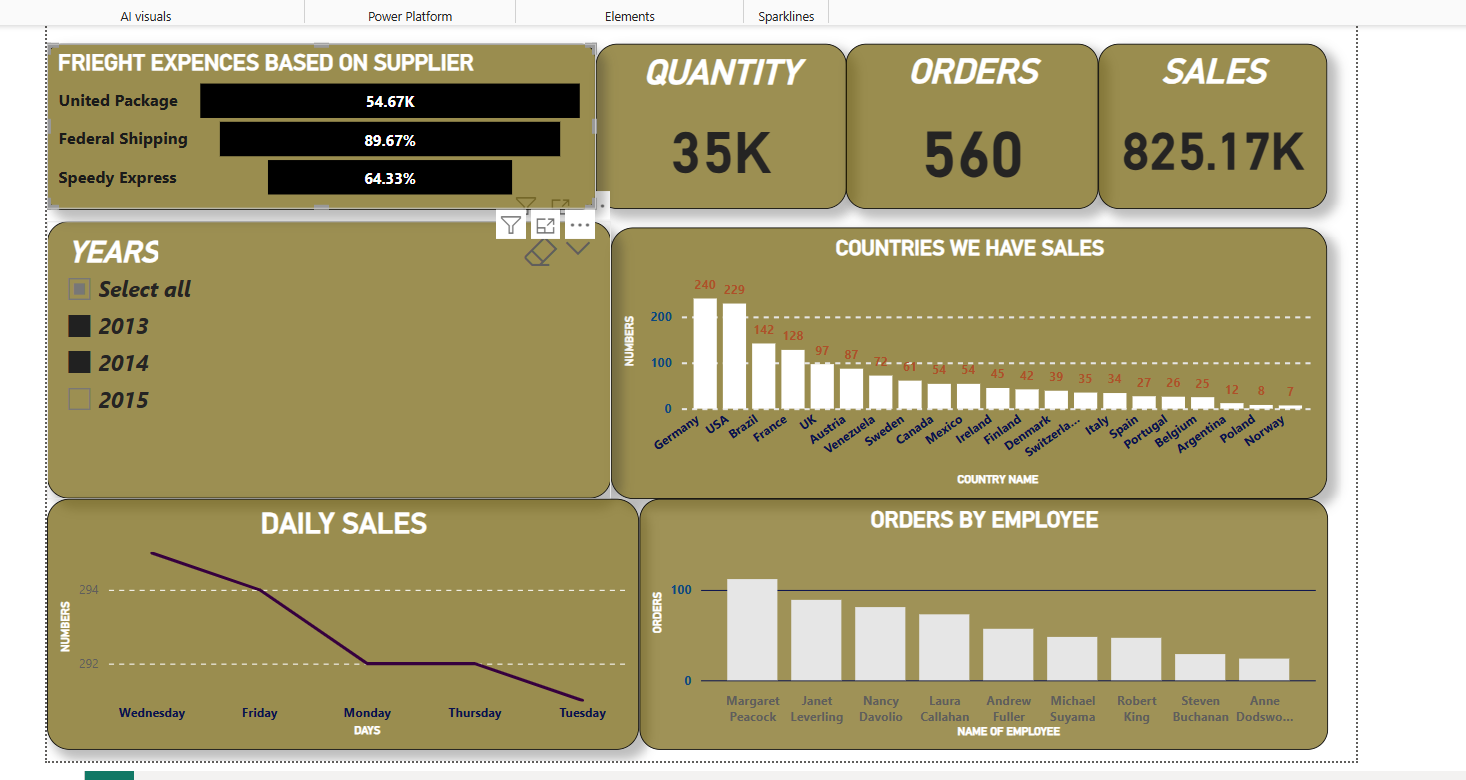

The dashboard page shown, as its layout file describes it:
{"tool":"powerbi","page":{"name":"Page 1","canvas":[1280,720],"ordinal":0},"visuals":[{"type":"card","title":"QUANTITY","fields":{"Values":["sales.Total Units Sold"]},"box":[536.5,18.3,245.4,161.6],"z":0},{"type":"card","title":"ORDERS","fields":{"Values":["sales.Total Orders"]},"box":[781.9,18.3,246.9,161.6],"z":1},{"type":"clusteredColumnChart","title":"COUNTRIES WE HAVE SALES","fields":{"Category":["sales.customerCountry"],"Y":["sales.count"]},"box":[551.8,198.1,701.1,265.2],"z":5},{"type":"card","title":"SALES","fields":{"Values":["sales.Total Sales"]},"box":[1028.8,18.3,224.1,161.6],"z":6},{"type":"slicer","fields":{"Values":["sales.orderDate.Variation.Date Hierarchy.Year"]},"box":[0,192,551.8,271.3],"z":7},{"type":"lineChart","title":"DAILY SALES","fields":{"Category":["sales.DayOfWeek"],"Y":["sales.count"]},"box":[0,463.4,579.2,245.4],"z":8},{"type":"columnChart","title":"ORDERS BY EMPLOYEE","fields":{"Category":["sales.employeeName"],"Y":["sales.Total Orders"]},"box":[579.2,463.4,673.7,245.4],"z":11},{"type":"funnel","title":"FRIEGHT EXPENCES BASED ON SUPPLIER","fields":{"Category":["sales.supplierCompany"],"Y":["Sum(sales.freight)"]},"box":[0,18,537,162],"z":12}]}

Visuals, with their boxes in screenshot pixels (x1, y1, x2, y2):
"QUANTITY" card: BBox(590, 38, 843, 204)
"ORDERS" card: BBox(843, 38, 1097, 204)
"COUNTRIES WE HAVE SALES" clusteredColumnChart: BBox(606, 223, 1327, 496)
"SALES" card: BBox(1097, 38, 1327, 204)
slicer - sales.orderDate.Variation.Date Hierarchy.Year: BBox(38, 217, 606, 496)
"DAILY SALES" lineChart: BBox(38, 496, 634, 748)
"ORDERS BY EMPLOYEE" columnChart: BBox(634, 496, 1327, 748)
"FRIEGHT EXPENCES BASED ON SUPPLIER" funnel: BBox(38, 38, 591, 204)
